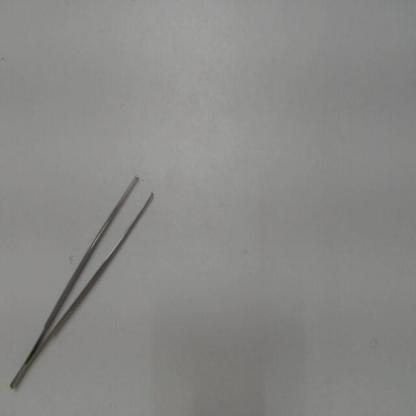Gillies Toothed Dissector: (3, 169, 166, 404)
